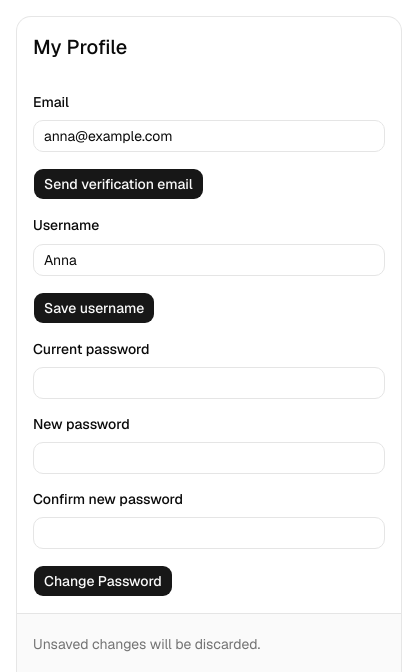
Test case: keeps username input and shows a rejected save without false success
The image size is (419, 672).
Replace the text in the field labelled "Username" with "New Name" at (209,260), box top-left (33, 244), bottom-right (385, 276)
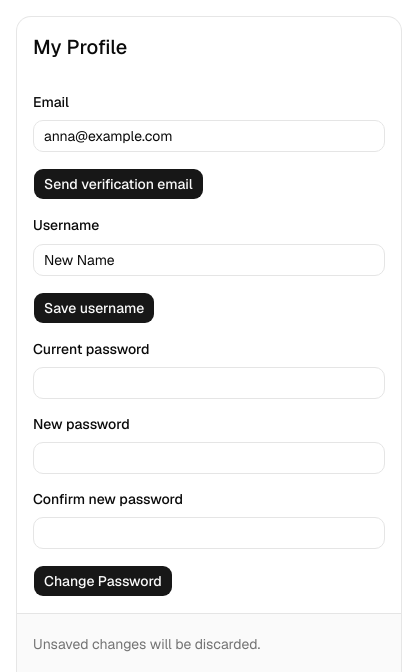
Click the button "Save username" at (94,308), box top-left (33, 292), bottom-right (155, 324)
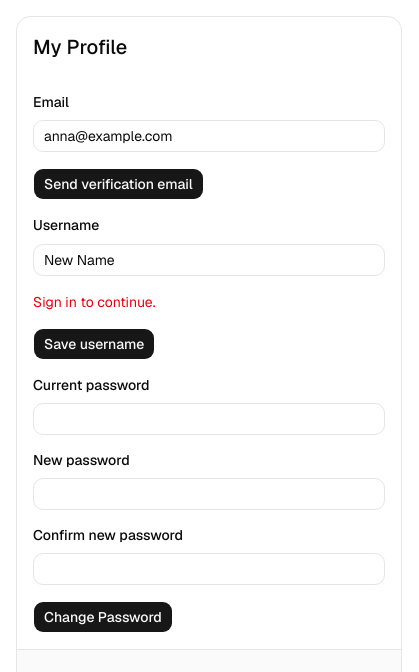
Now the text "Sign in to continue." is shown, box top-left (33, 292), bottom-right (156, 310)
